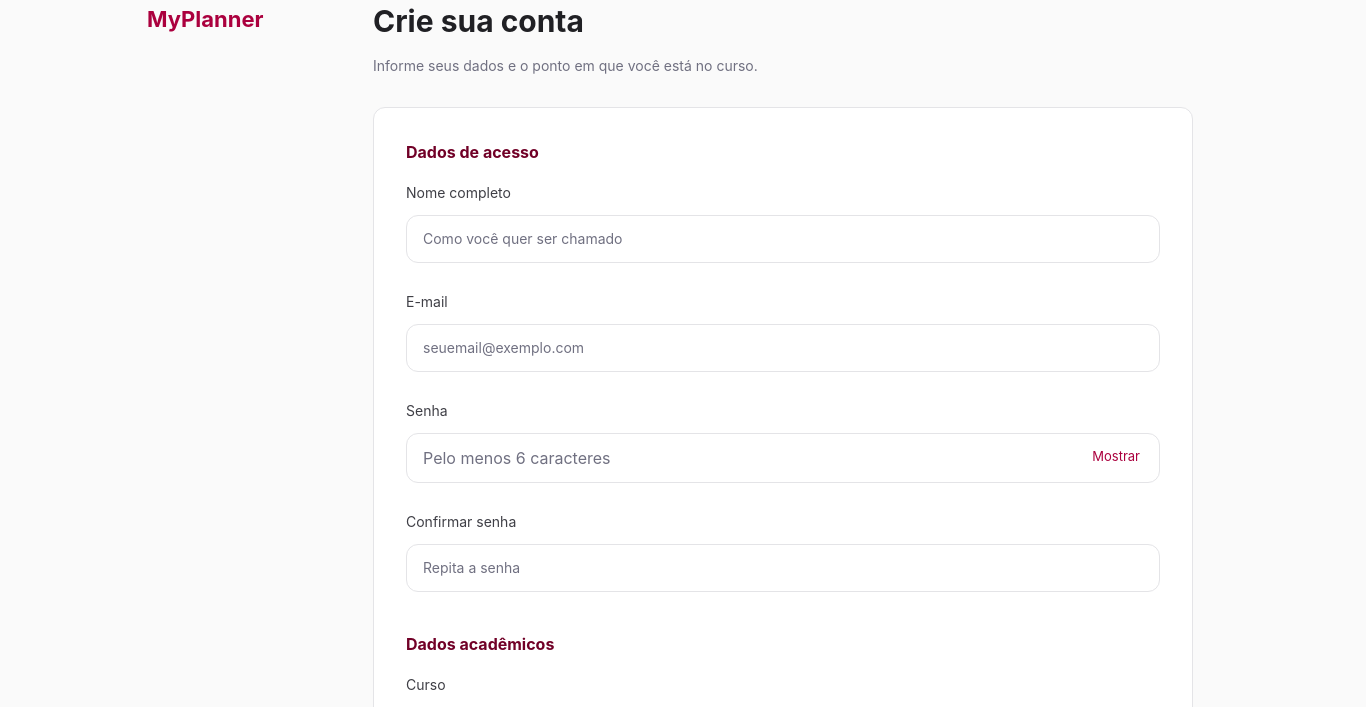
RegisterPage (autocadastro) › mostra os erros de cada campo e não envia um cadastro inválido
The image size is (1366, 707).
Type "email-invalido" into the field labelled "E-mail" at (783, 348), box [406, 324, 1160, 372]
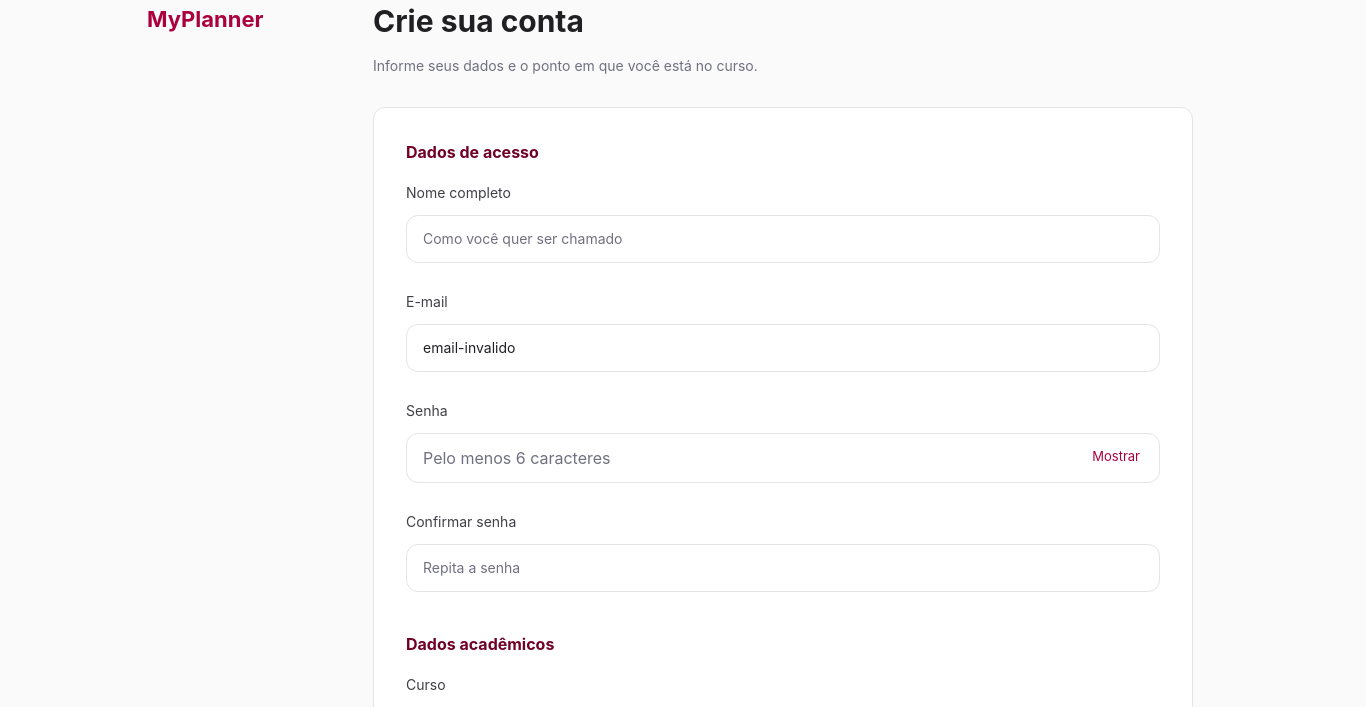
Type "123" into the password field labelled "Senha" at (783, 458), box [406, 433, 1160, 483]
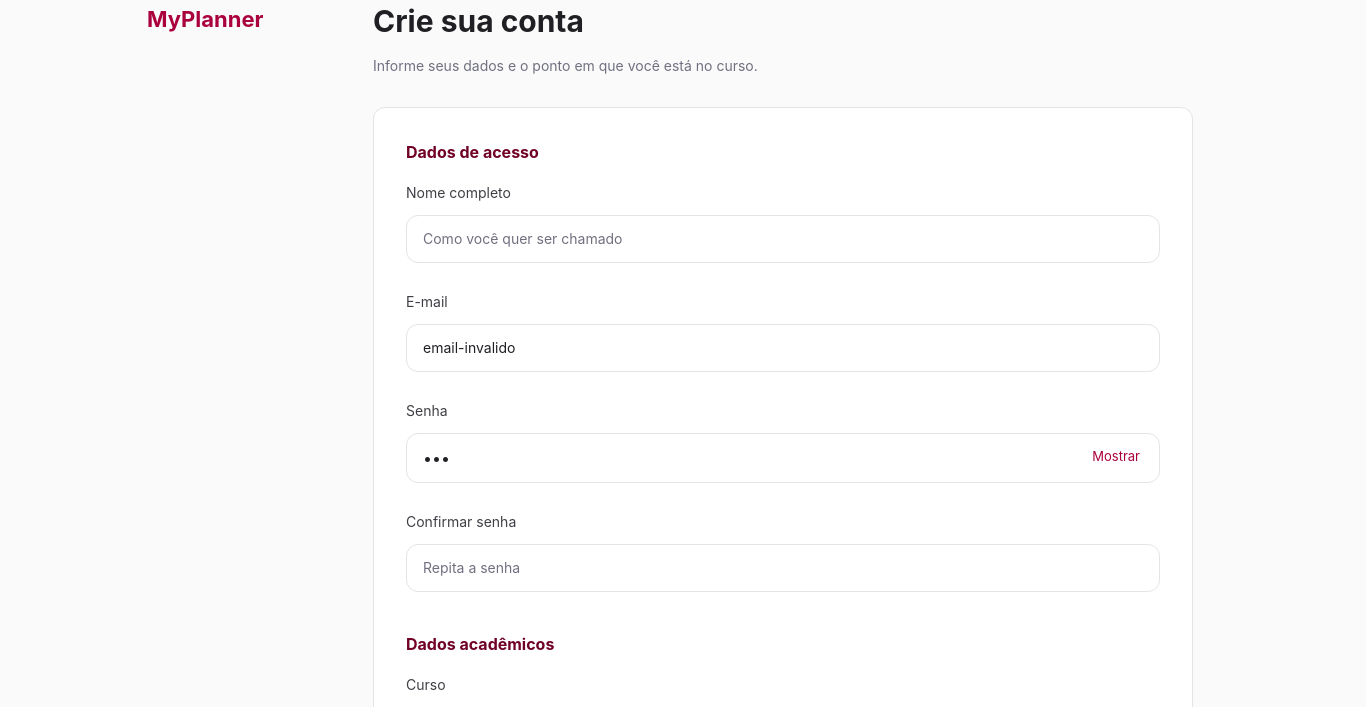
Type "321" into the password field labelled "Confirmar senha" at (783, 568), box [406, 544, 1160, 592]
(page scrolled)
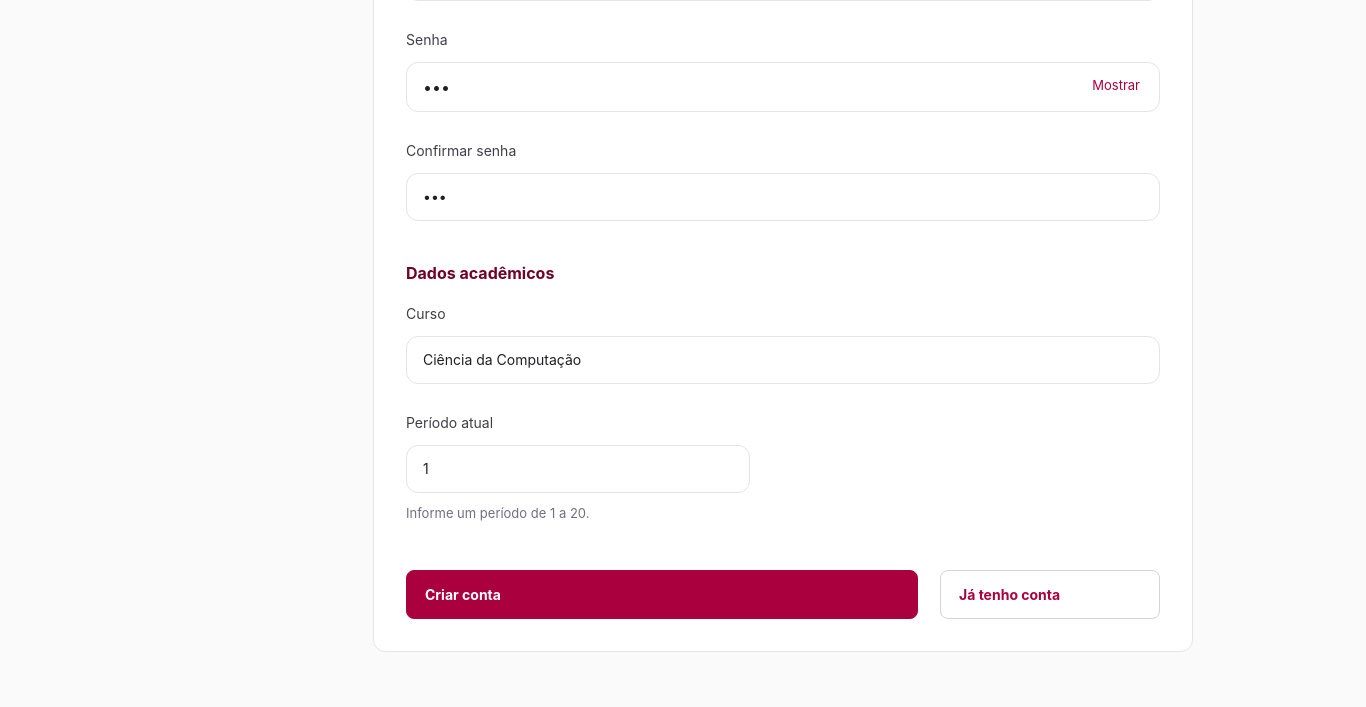
Clear the field labelled "Curso" at (783, 360), box [406, 336, 1160, 384]
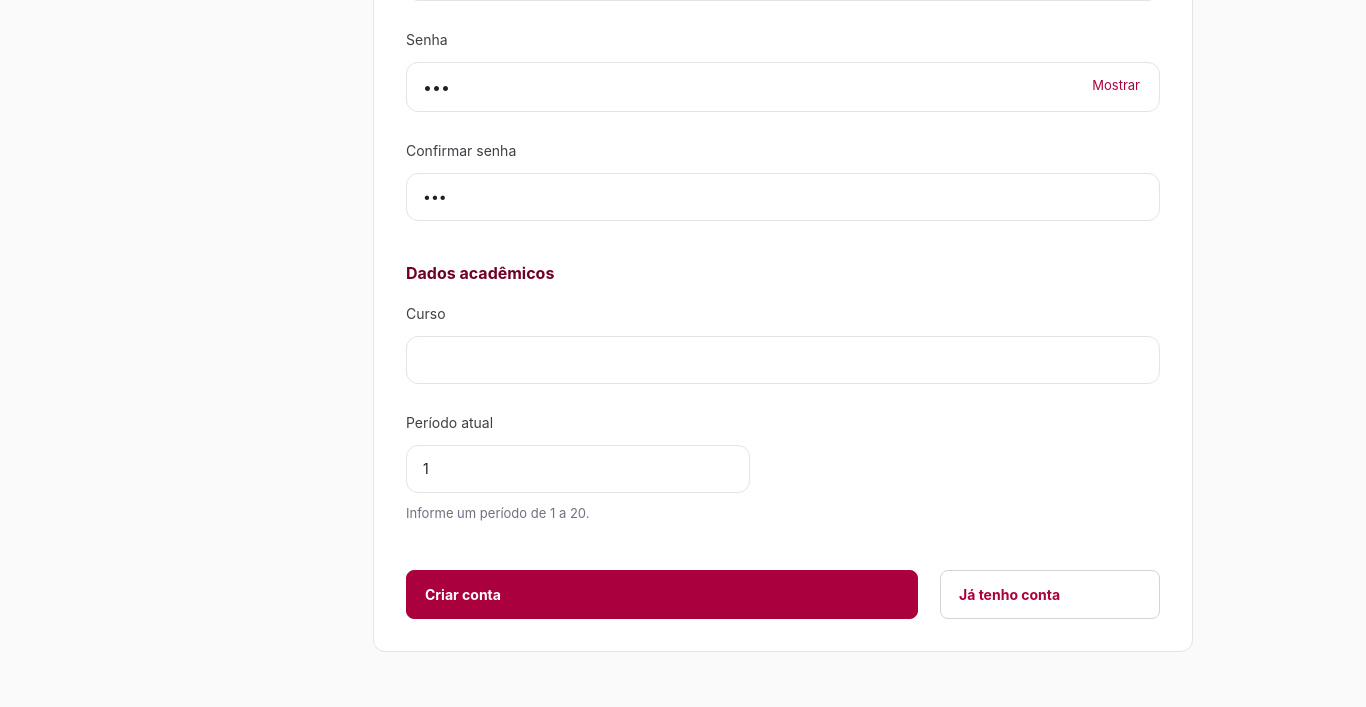
Replace the text in the number field labelled "Período atual" with "25" at (578, 469), box [406, 445, 750, 493]
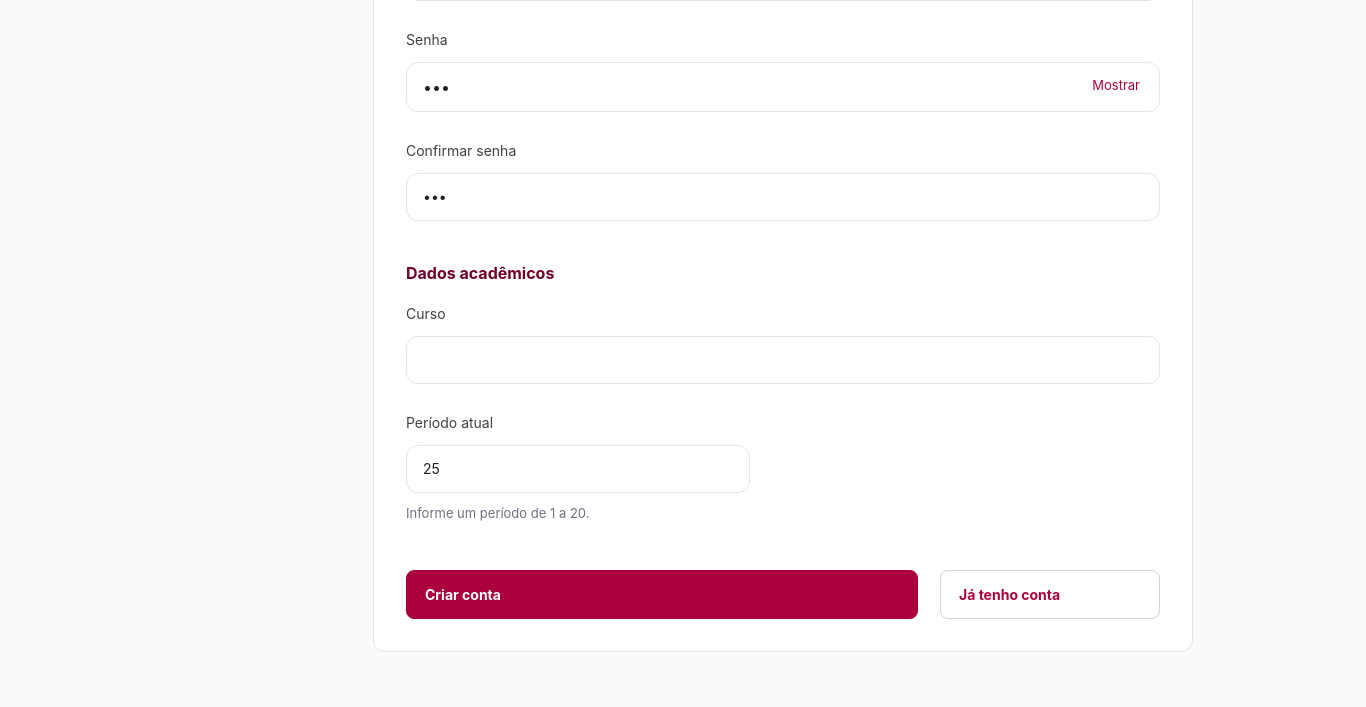
Click the button "Criar conta" at (463, 594), box [406, 570, 918, 619]
(page scrolled)
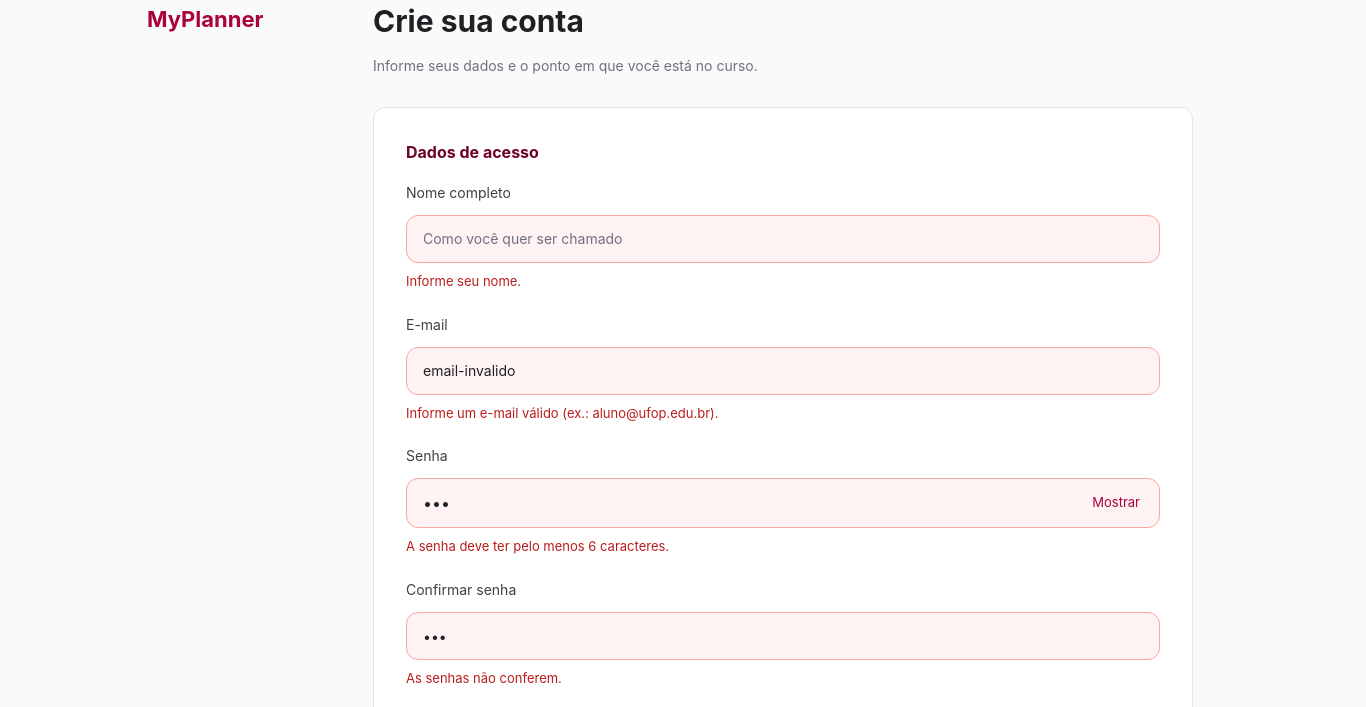
expect the text "Informe seu nome." is shown: met, box [406, 273, 521, 289]
expect the text "Informe um e-mail válido (ex.: aluno@ufop.edu.br)." is shown: met, box [406, 405, 718, 421]
expect the text "A senha deve ter pelo menos 6 caracteres." is shown: met, box [406, 538, 669, 554]
